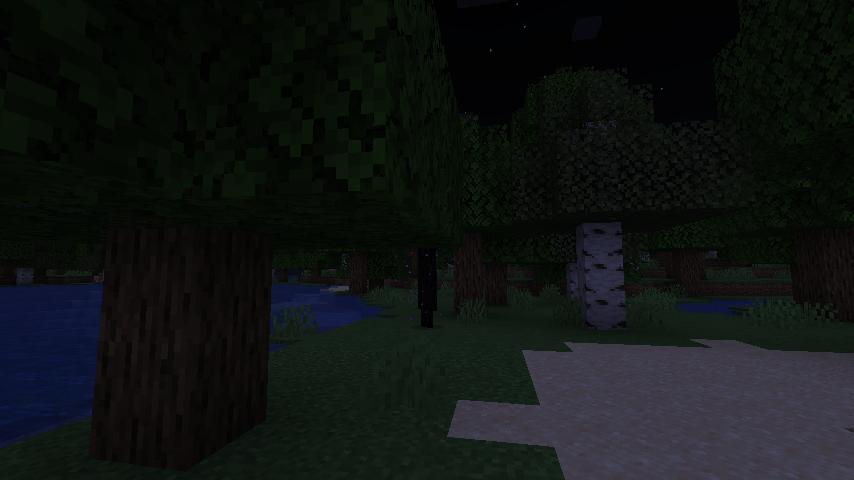enderman: (410, 247, 446, 327)
